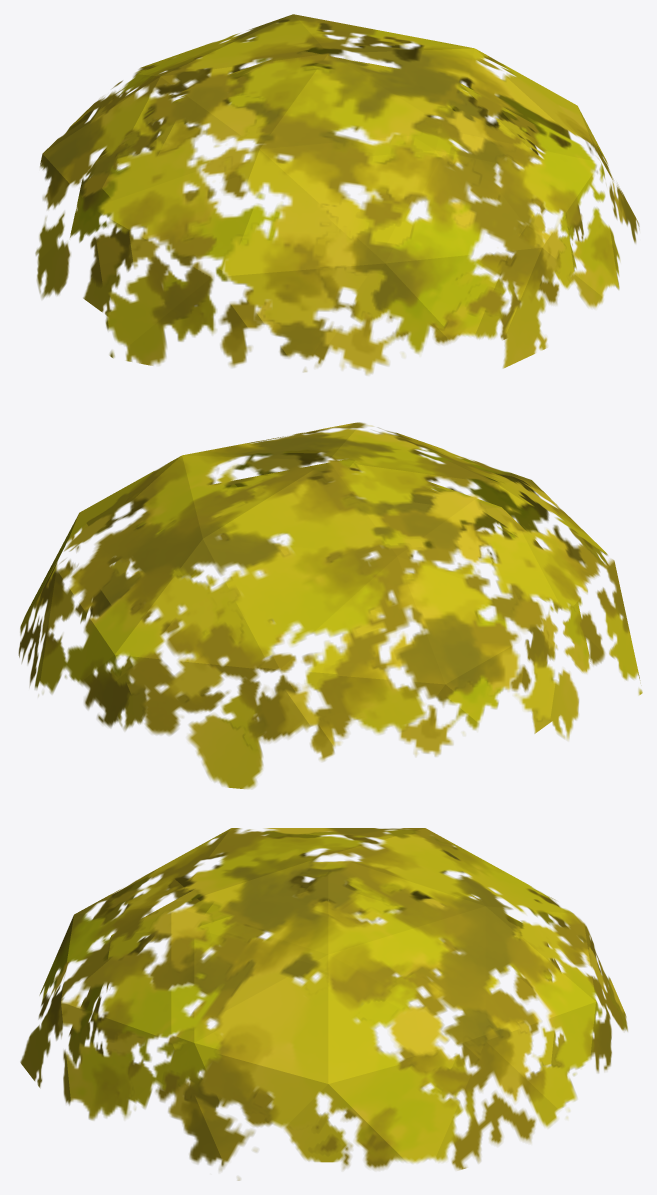
File: Plant_15.glb
The picture shows the model from 3 angles, top to bottom: view 1: azimuth 30°, elevation 25°; view 2: azimuth 150°, elevation 25°; view 3: azimuth 270°, elevation 25°; orthographic projection. The views are drawn at different scales.
Parts seen in each view (by area): view 1: Plant_15; view 2: Plant_15; view 3: Plant_15.
Part boxes in pixels (bbox=[...]): Plant_15: bbox=[35, 14, 639, 374]; Plant_15: bbox=[18, 422, 642, 789]; Plant_15: bbox=[20, 828, 627, 1180].
Bounding box in the file's own units: 0.8776 × 0.3231 × 0.9227.
1 material, 1 textured.
